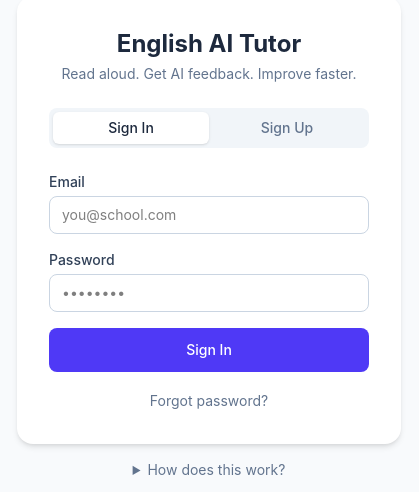
LoginPage — forgot password › Back to sign in returns to sign-in form
Click the button "Forgot password?" at (209, 401), box [49,391,369,411]
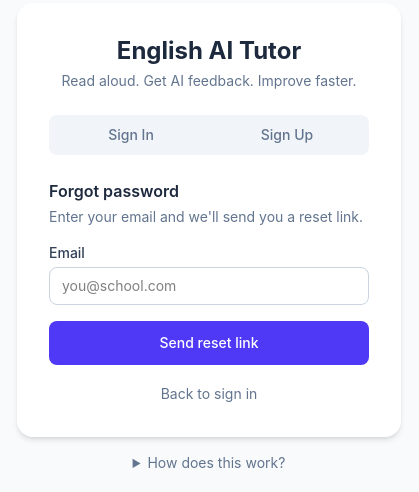
Click the button "Back to sign in" at (209, 394), box [49,384,369,404]
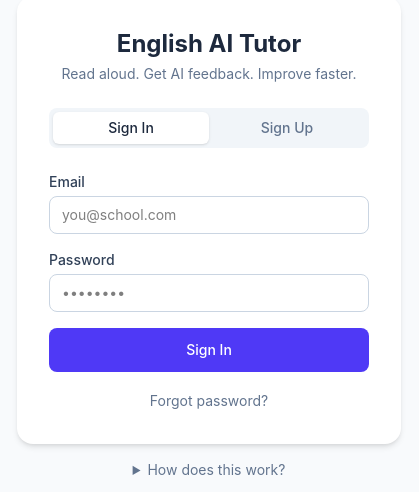
Expected: the button "Forgot password?" is shown, [49,391,369,411]
